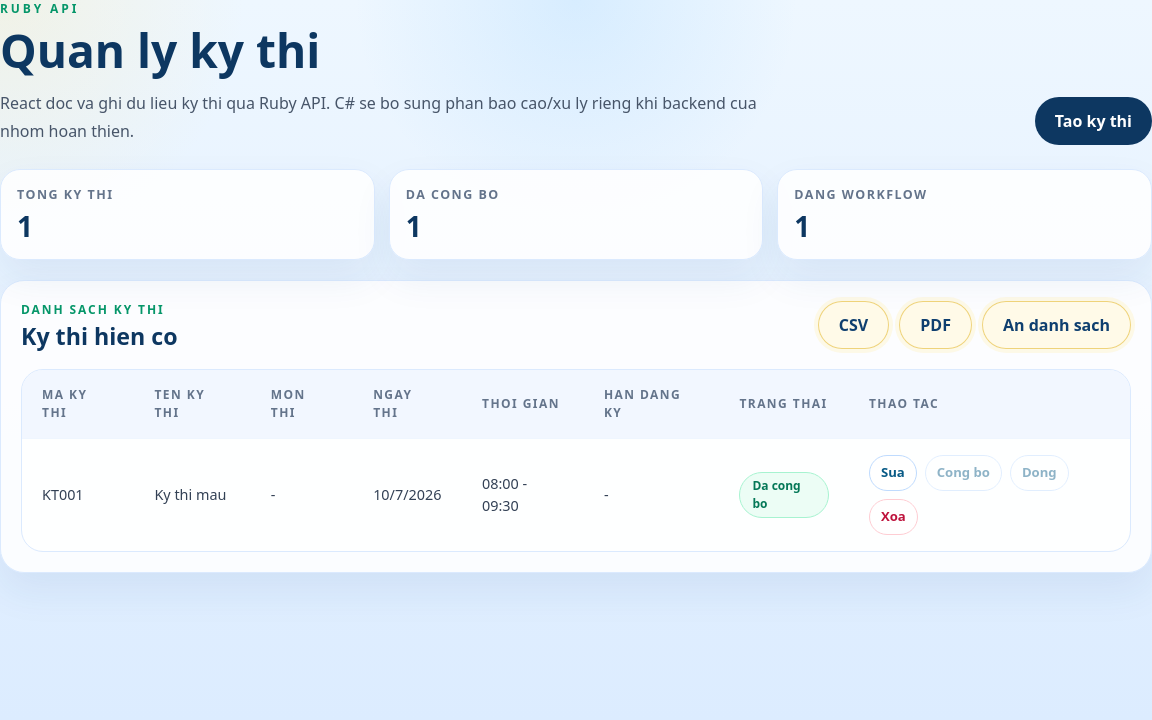
Test: ExamsPage › shows a confirmation dialog before deleting an exam
The image size is (1152, 720).
Check: the text "Ky thi mau" is shown, box x1=134 y1=439 x2=251 y2=551
Click the button "Xoa". click: (893, 517)
box: x1=869 y1=499 x2=918 y2=535
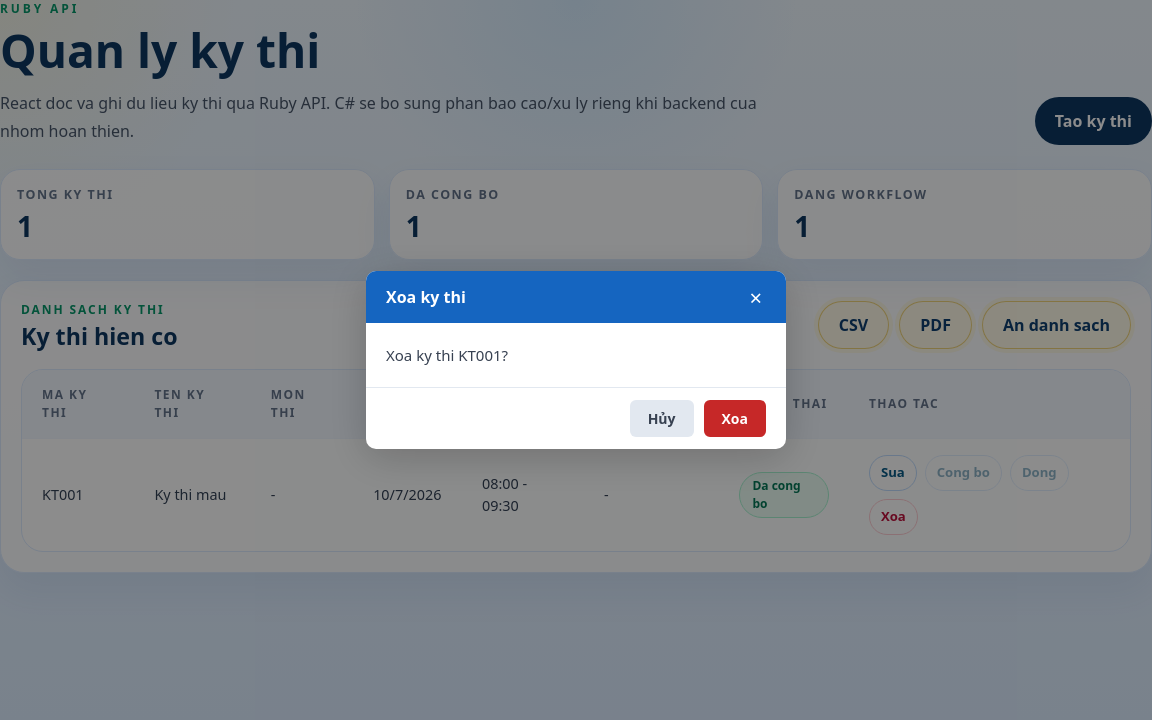
Check: the text "Xoa ky thi" is shown, box x1=386 y1=285 x2=466 y2=309
